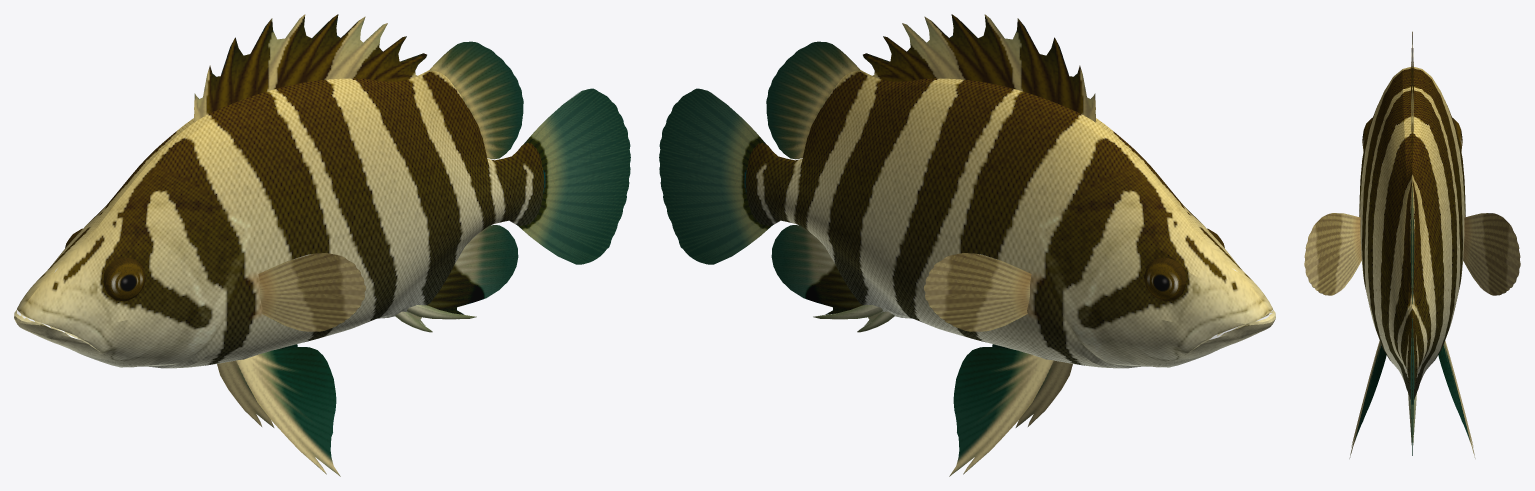
File: Tigerfisch.dae
3 renders of one model, left to right at view 1: azimuth 30°, elevation 25°; view 2: azimuth 150°, elevation 25°; view 3: azimuth 270°, elevation 25°, orthographic. The views are drawn at different scales.
Parts seen in each view (by area): view 1: Model; view 2: Model; view 3: Model.
Part boxes in pixels (x1,y1,x2,y2): Model: (14,14,630,476); Model: (659,14,1275,476); Model: (1304,31,1520,458).
Size of the model in its own units: 0.3996 by 0.1279 by 0.2755.
2 materials, 1 textured.
